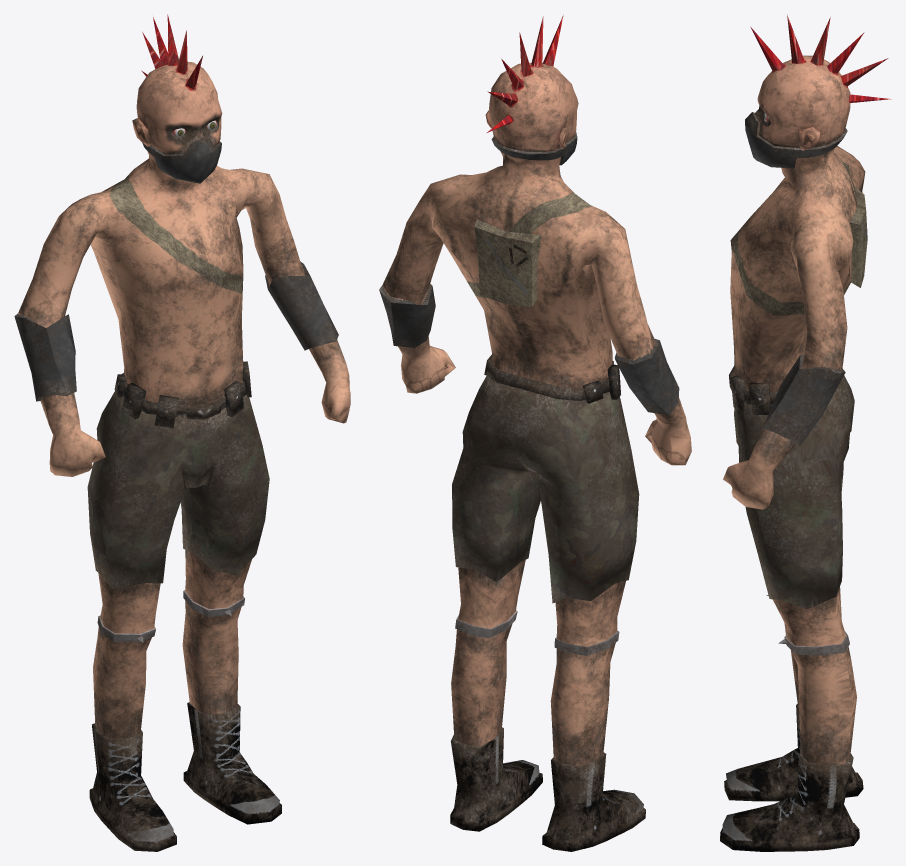
File: Anim_disparar_ametralladora_npc2.0013.obj
3 renders of one model, left to right at view 1: azimuth 30°, elevation 25°; view 2: azimuth 150°, elevation 25°; view 3: azimuth 270°, elevation 25°, orthographic. The views are drawn at different scales.
Parts seen in each view (by area): view 1: polySurface1; view 2: polySurface1; view 3: polySurface1.
Boxes of the visible parts, x1,y1,x2,y2 form: polySurface1: [14, 14, 350, 851]; polySurface1: [379, 15, 691, 851]; polySurface1: [720, 14, 891, 851].
Bounding box in the file's own units: 3.95 × 10.21 × 1.97.
